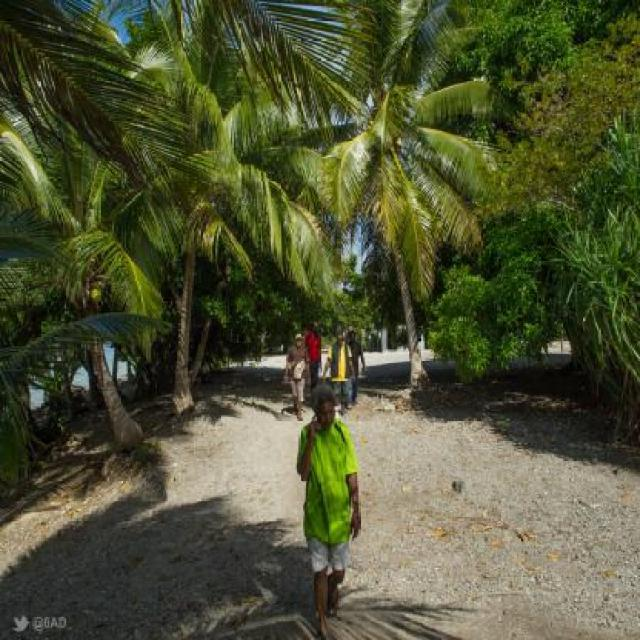Coconut: (89, 286, 102, 306)
